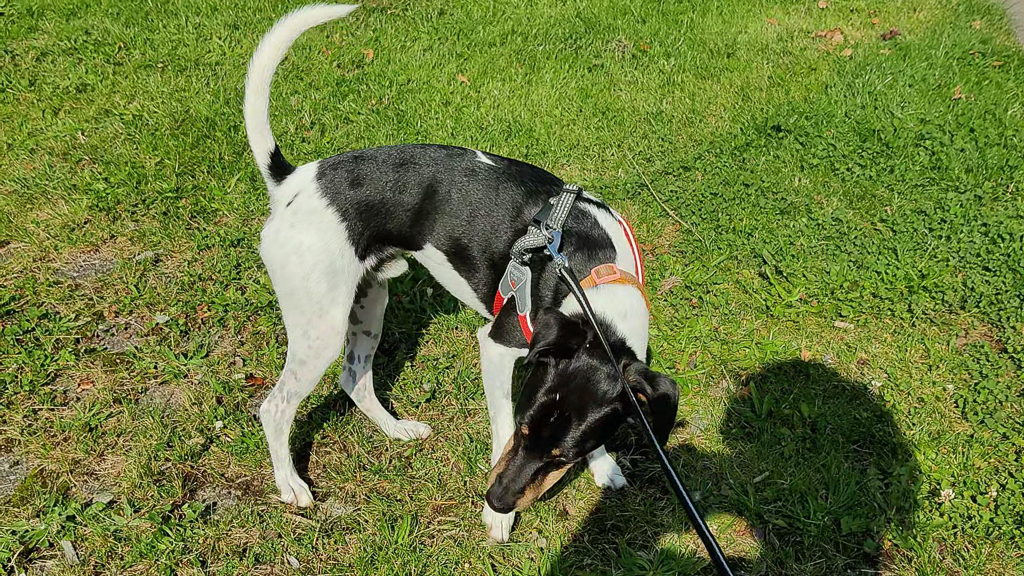Dog: (235, 2, 705, 565)
